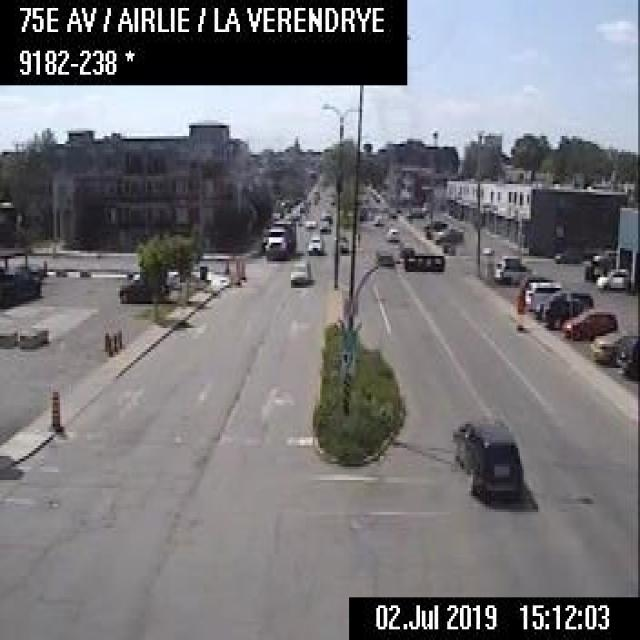construction: (48, 386, 61, 429), (512, 294, 524, 330), (111, 331, 116, 351), (103, 331, 108, 350), (107, 335, 112, 354), (116, 328, 120, 348)
vehicle: (452, 413, 524, 504), (542, 288, 592, 324), (562, 306, 617, 337), (260, 218, 296, 260), (117, 272, 167, 302), (522, 278, 561, 310), (131, 266, 178, 290), (615, 332, 636, 380), (494, 255, 530, 282), (592, 265, 629, 291), (588, 328, 618, 360), (289, 253, 310, 288), (431, 224, 463, 244), (553, 240, 585, 259), (423, 216, 446, 234), (306, 233, 323, 256), (404, 203, 430, 217), (373, 246, 393, 264), (383, 226, 398, 240), (302, 214, 315, 228), (317, 218, 329, 232), (319, 209, 332, 221), (372, 212, 382, 225)
